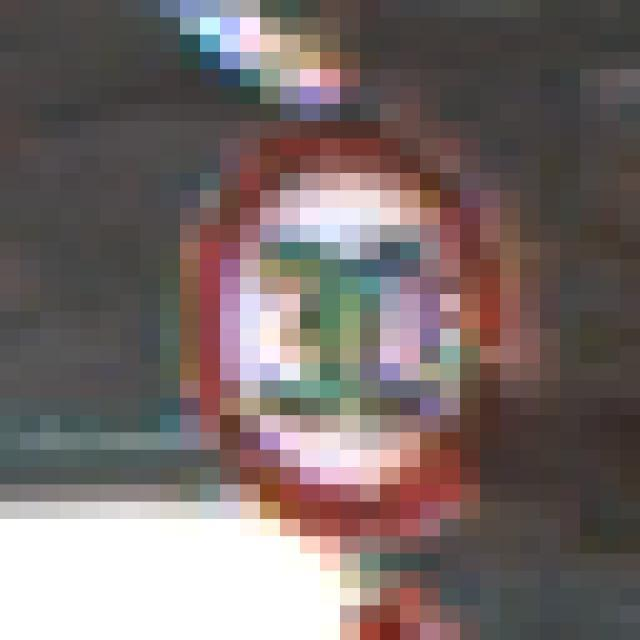Speed Limit -30-: (110, 78, 510, 528)
